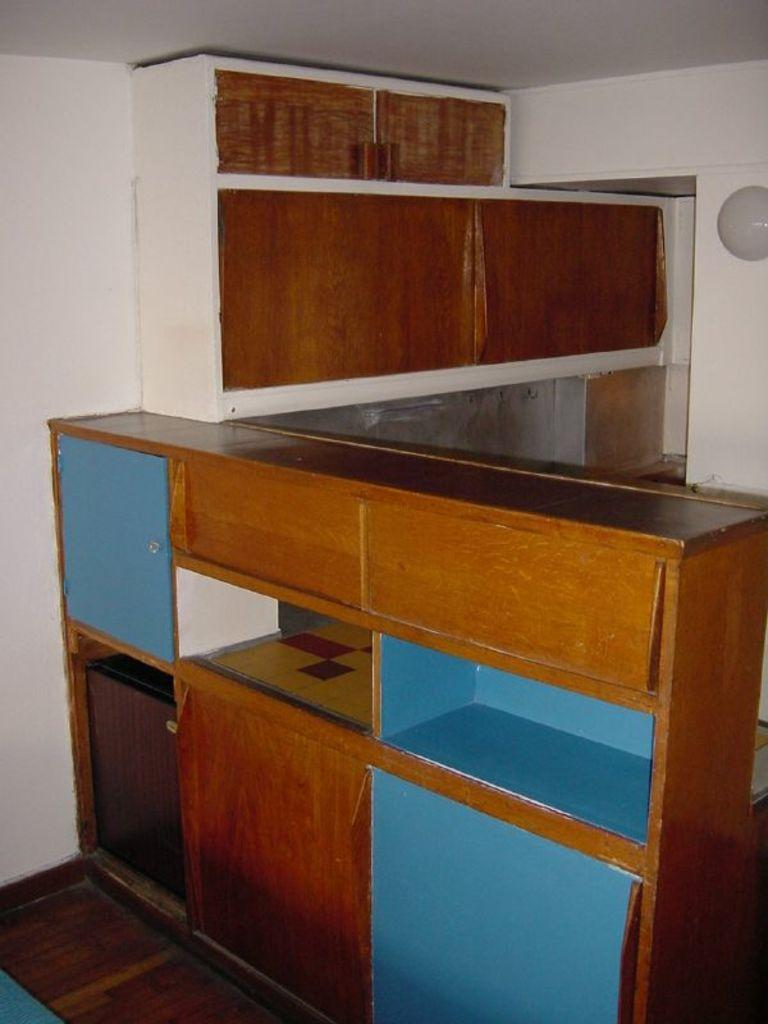cabinet_door: (373, 514, 670, 678), (190, 717, 366, 953), (236, 194, 478, 352), (483, 206, 670, 343), (178, 465, 368, 580), (66, 458, 170, 651), (221, 72, 369, 174), (375, 100, 495, 178)
handle: (346, 795, 370, 983), (642, 562, 666, 696), (650, 222, 672, 344), (619, 897, 637, 1024), (474, 235, 492, 340), (354, 514, 368, 602), (144, 532, 166, 570)
